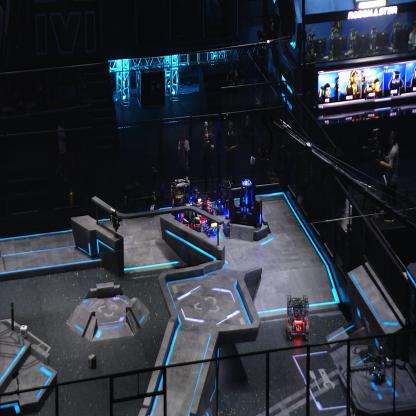car: (286, 292, 310, 340), (170, 176, 192, 219), (213, 176, 233, 214), (180, 201, 201, 232), (201, 206, 218, 236), (198, 192, 215, 216), (188, 186, 204, 209)
